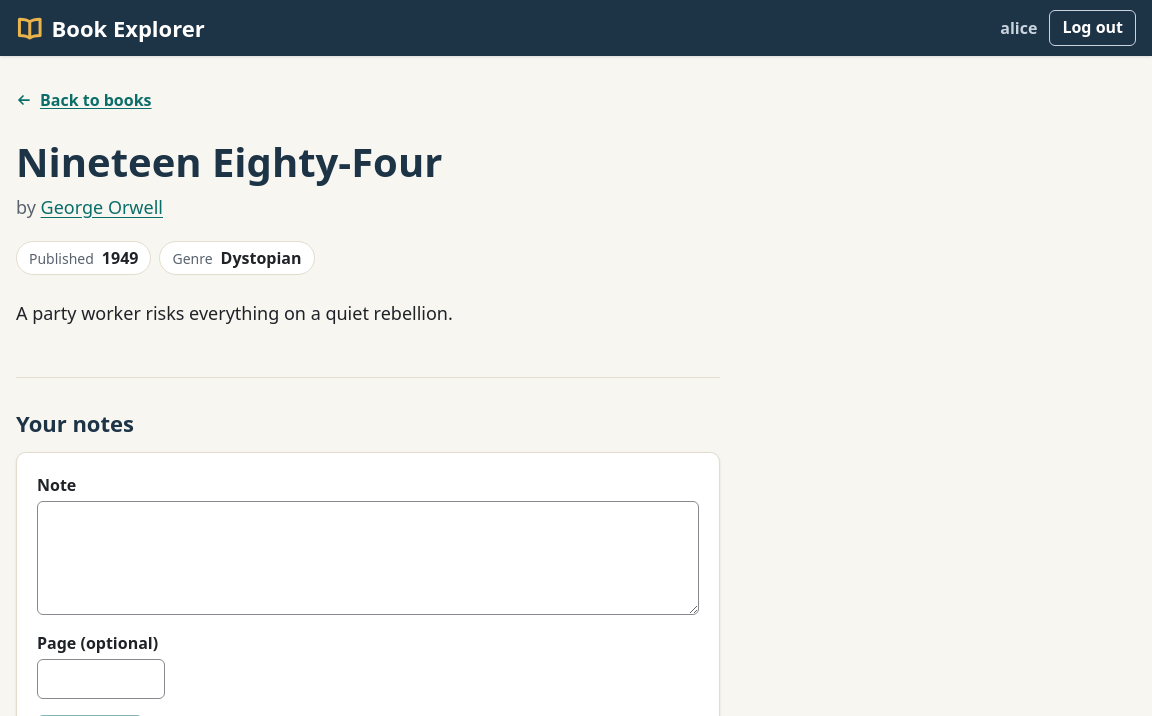
Test case: a save refused with 401 keeps the draft, says the session expired, and logging in again discards it
In the text box labelled "Note": (368, 558) [37, 501, 699, 615], type "Unsaved thought."
In the field labelled "Page (optional)": (101, 679) [37, 659, 165, 699], type "9"
(page scrolled)
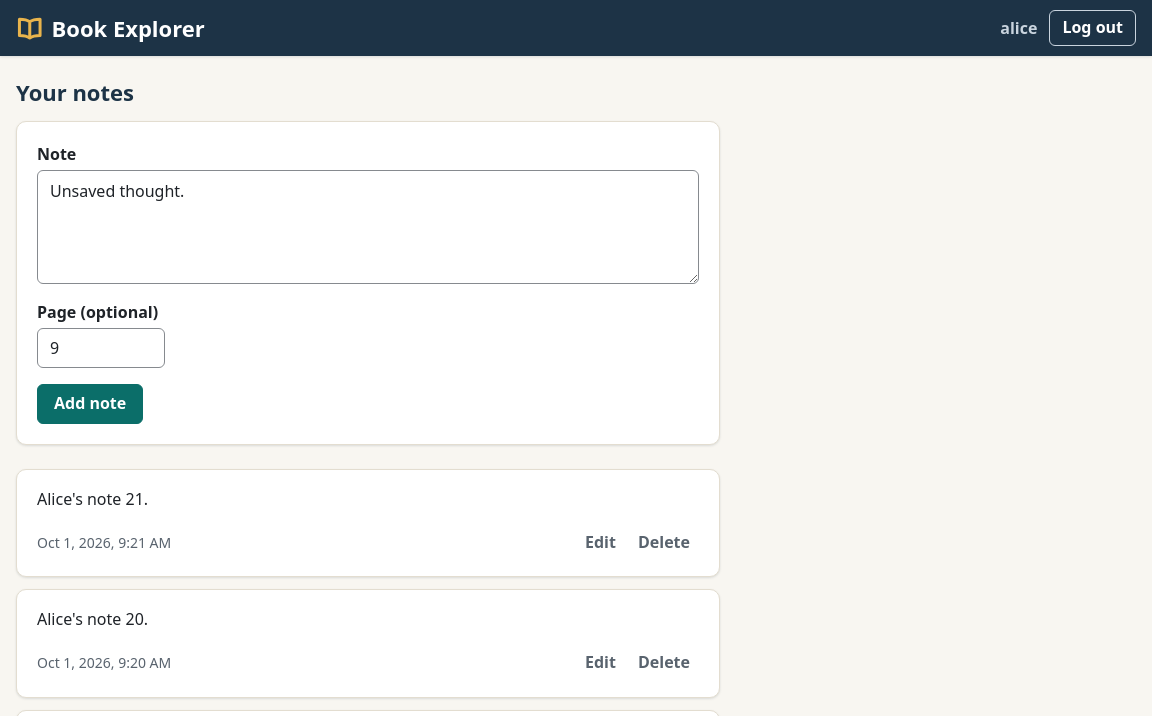
Click the button "Add note": (90, 404) [37, 384, 143, 424]
(page scrolled)
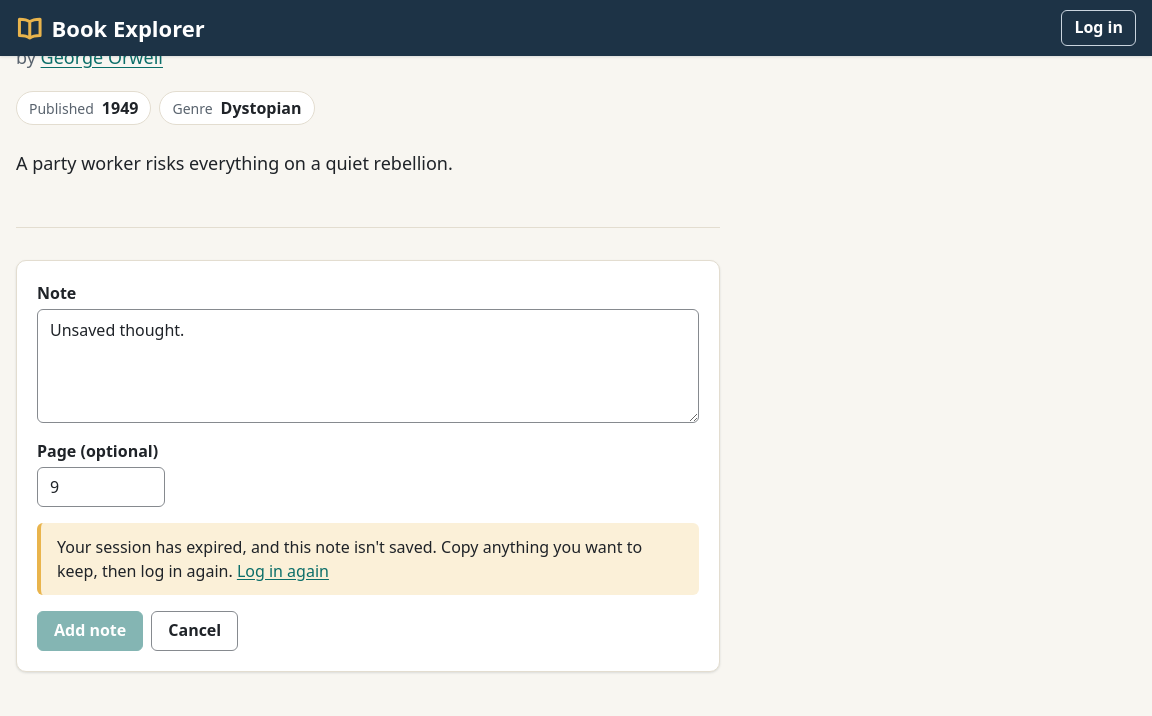
Check: the message shows "Your session has expired, and this note isn't saved. Copy anything you want to keep, then log in again.", box [57, 536, 642, 582]
Check: the link "Log in" is shown, box [1061, 10, 1136, 46]
Check: the button "Add note" is disabled, box [37, 611, 143, 651]
Click the link "Log in again": (283, 571) [237, 560, 329, 582]
(page scrolled)
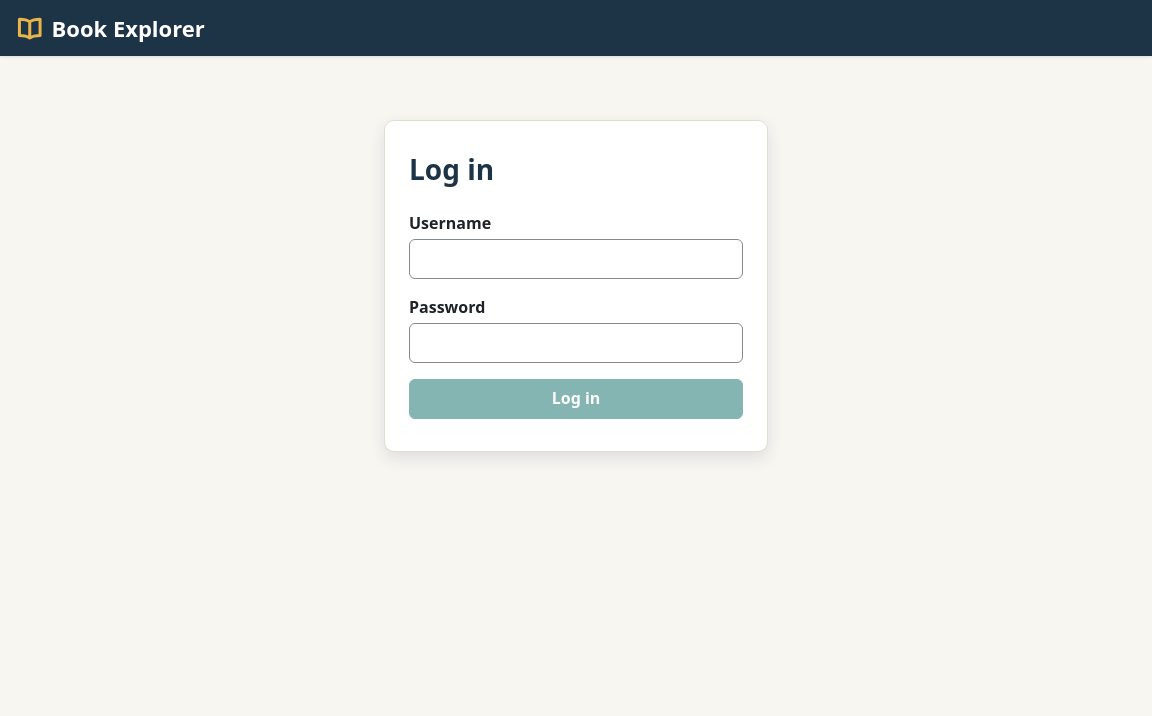
In the field labelled "Username": (576, 259) [409, 239, 743, 279], type "alice"
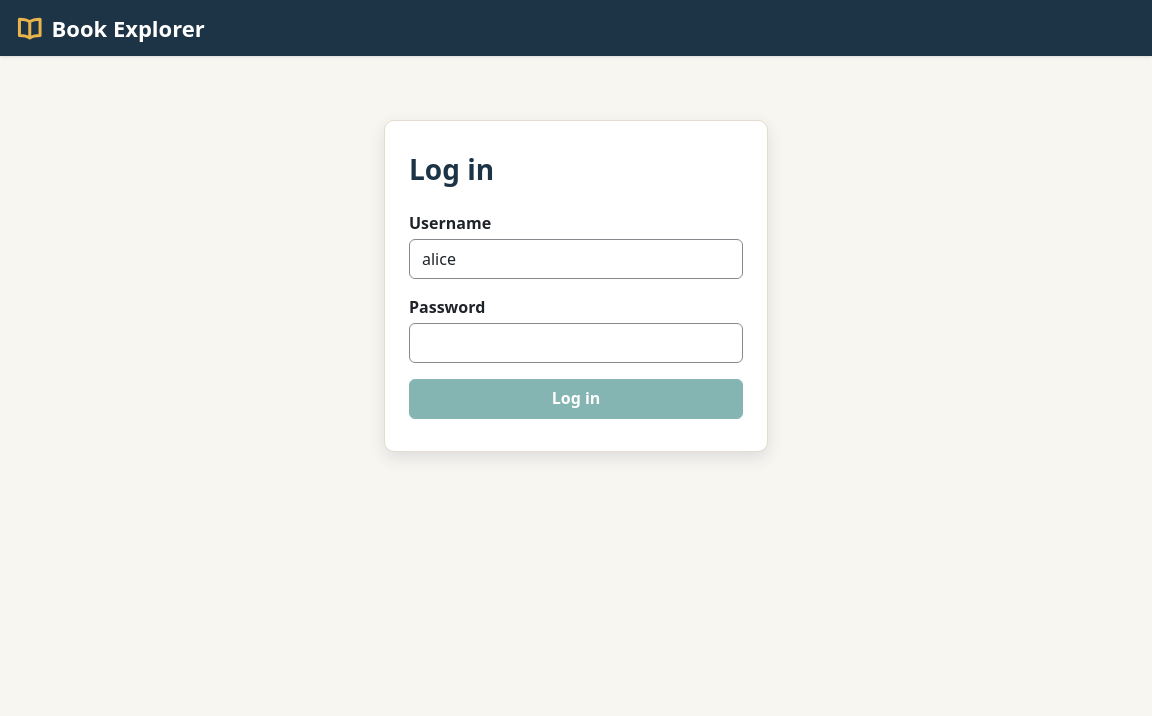
In the password field labelled "Password": (576, 343) [409, 323, 743, 363], type "alice-password"
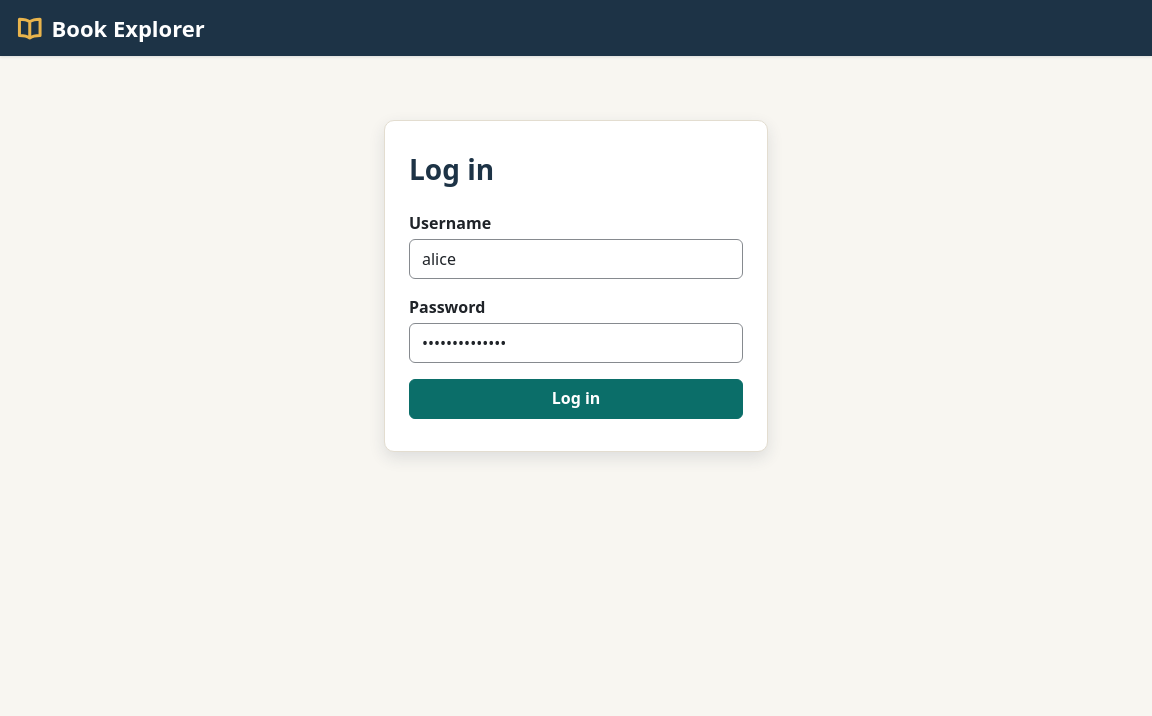
Click the button "Log in": (576, 399) [409, 379, 743, 419]
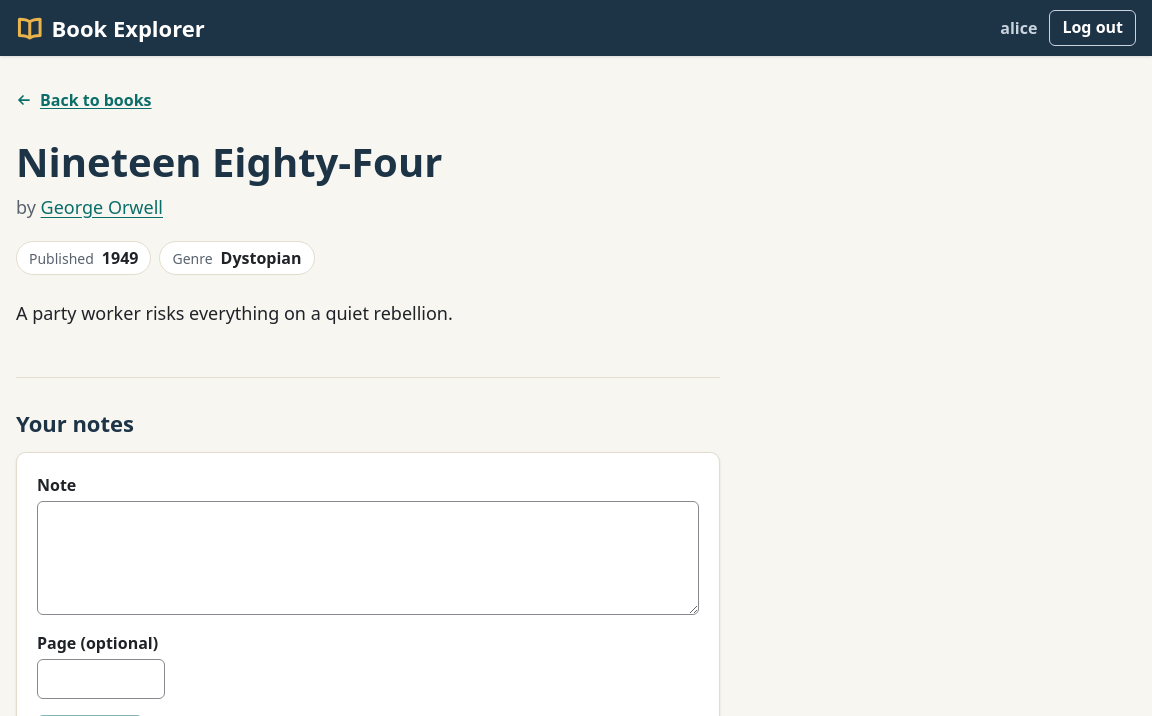
Check: the text box labelled "Note" is empty, box [37, 501, 699, 615]
Check: the heading "Nineteen Eighty-Four" is shown, box [16, 134, 442, 189]
